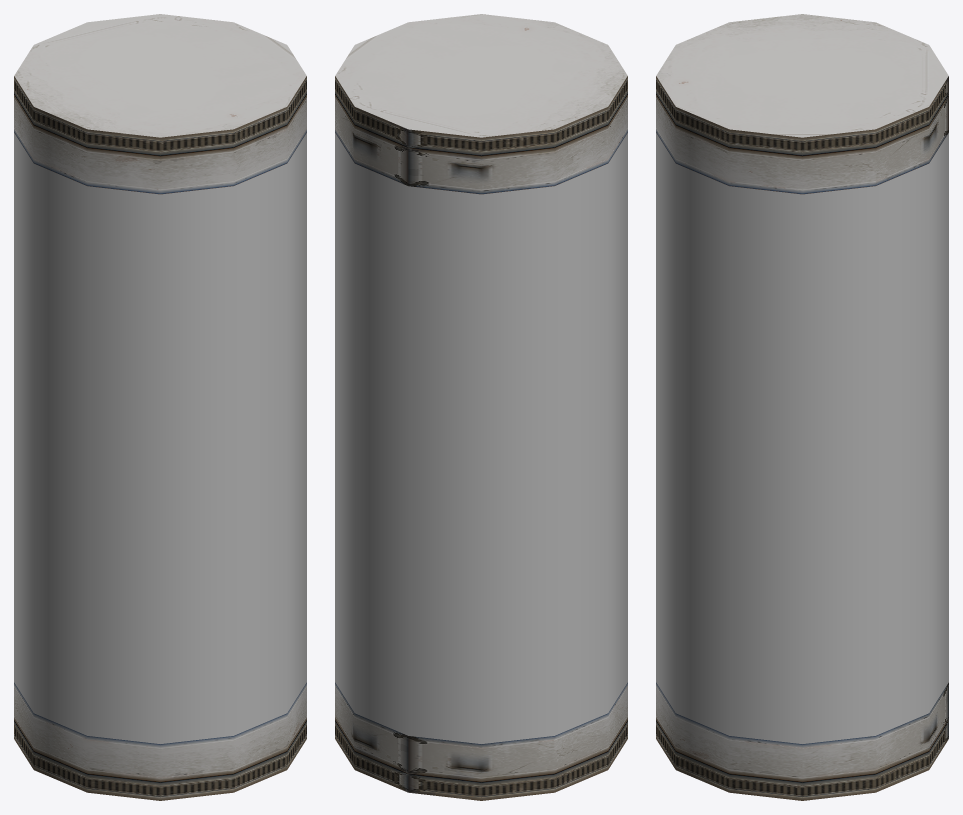
File: scifi_pipe_large_5.FBX
3 renders of one model, left to right at view 1: azimuth 30°, elevation 25°; view 2: azimuth 150°, elevation 25°; view 3: azimuth 270°, elevation 25°, orthographic.
Parts seen in each view (by area): view 1: Cylinder011; view 2: Cylinder011; view 3: Cylinder011.
Boxes of the visible parts, x1=… form: Cylinder011: x1=14, y1=14, x2=306, y2=800; Cylinder011: x1=335, y1=14, x2=627, y2=800; Cylinder011: x1=656, y1=14, x2=948, y2=800.
Bounding box in the file's own units: 102 × 254 × 102.
